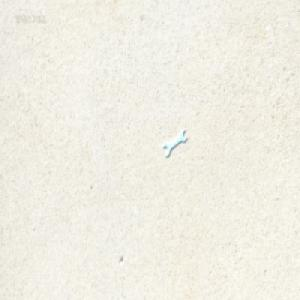Wrench: (163, 129, 187, 158)
